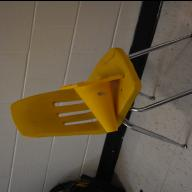cone: (59, 74, 124, 132)
